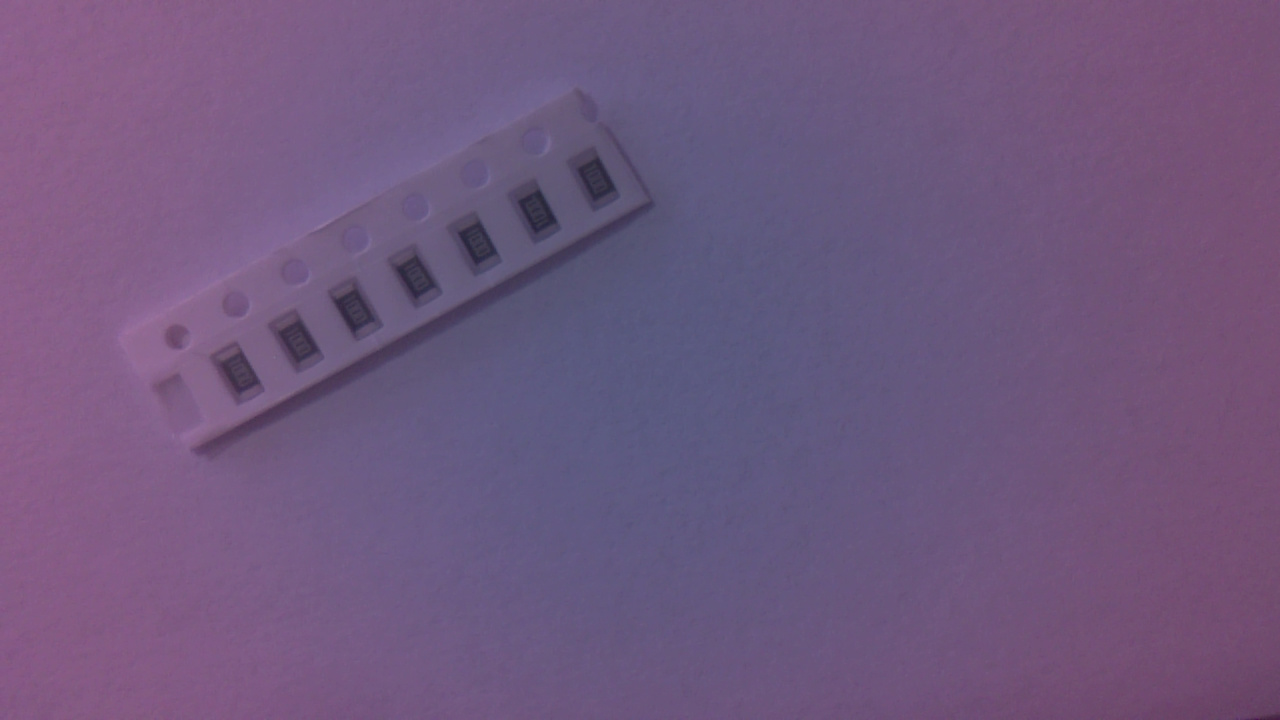Resistor: (332, 279, 388, 346), (273, 313, 330, 378), (451, 214, 507, 280), (513, 181, 568, 248), (393, 250, 450, 314), (571, 151, 628, 214), (215, 345, 271, 408)
